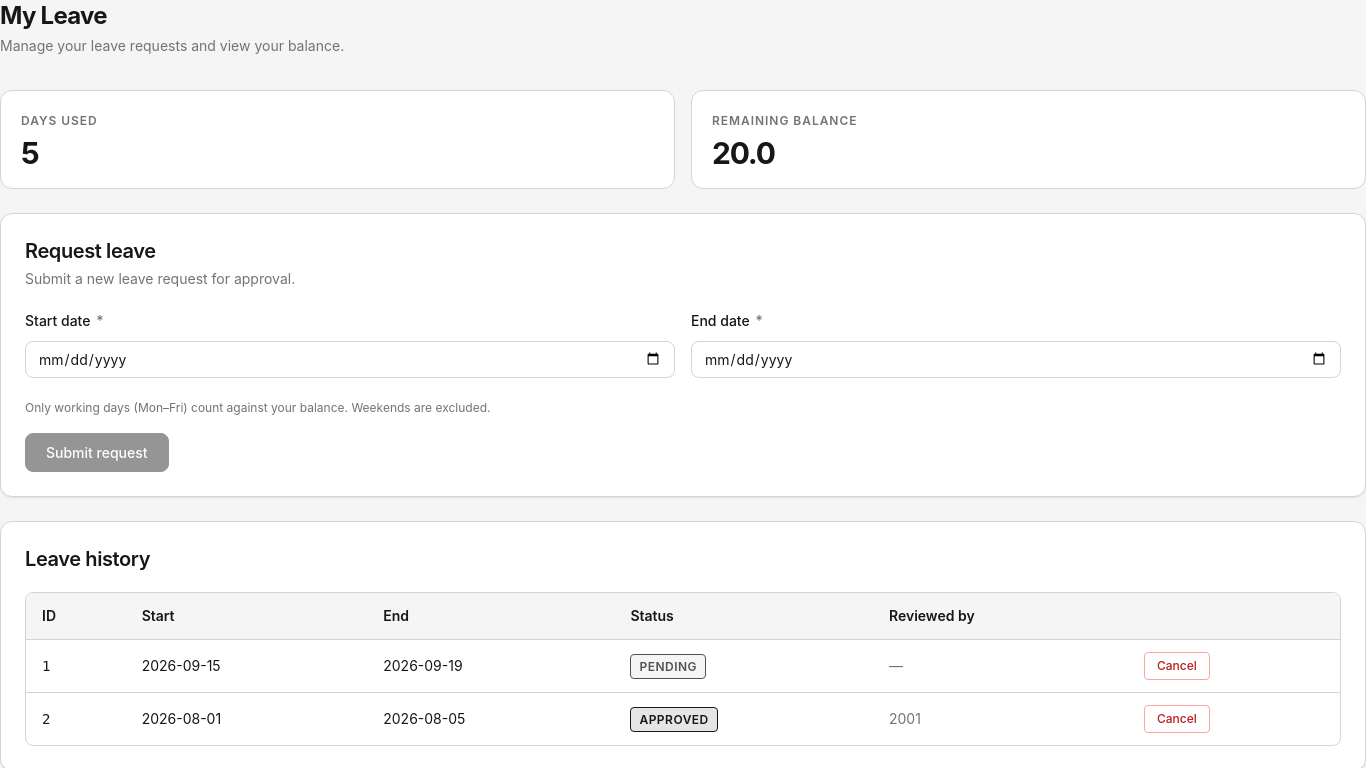
MyLeavePage — cancel action › closes the modal when "Keep request" is clicked
This screenshot has width=1366, height=768.
Click the button with aria-label "cancel leave" at point(1177, 666), box [1144, 652, 1210, 680]
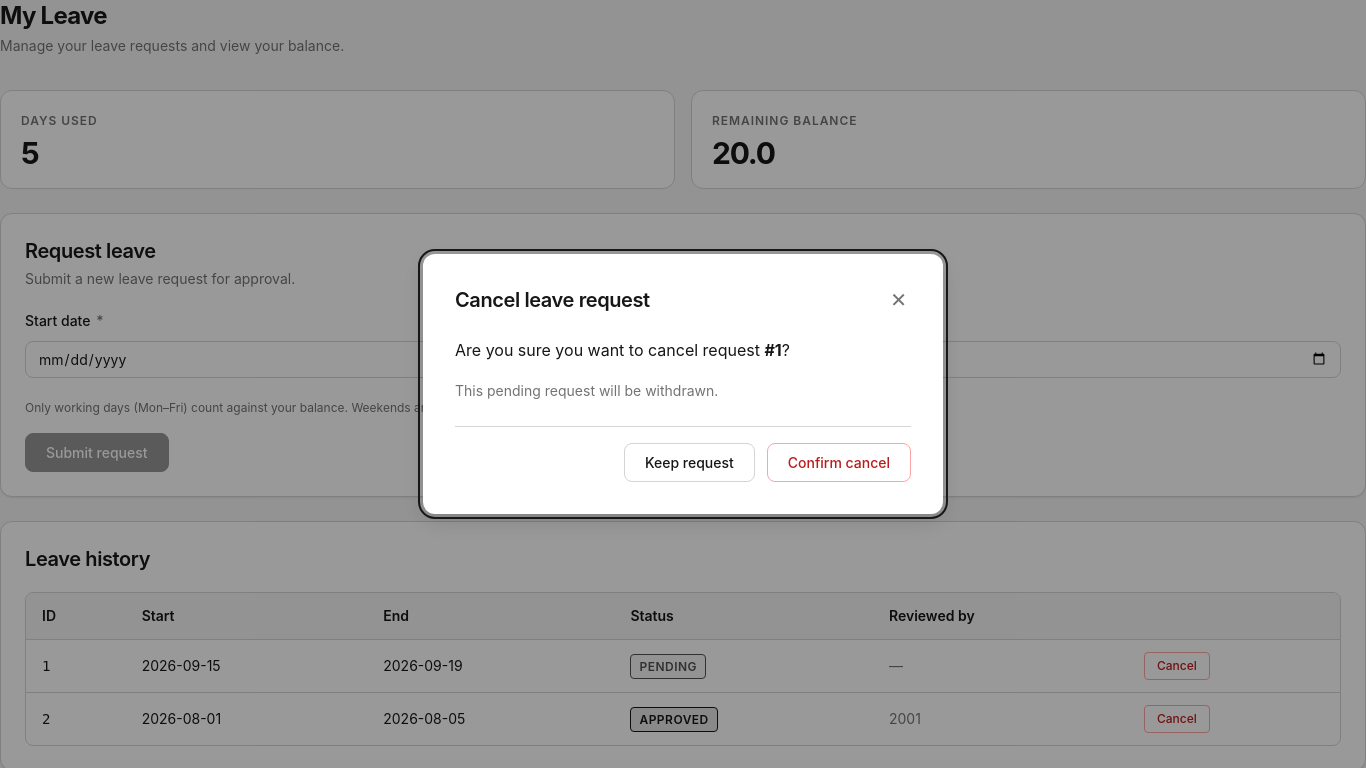
Click the button "Keep request" at point(689, 462), box [624, 443, 755, 482]
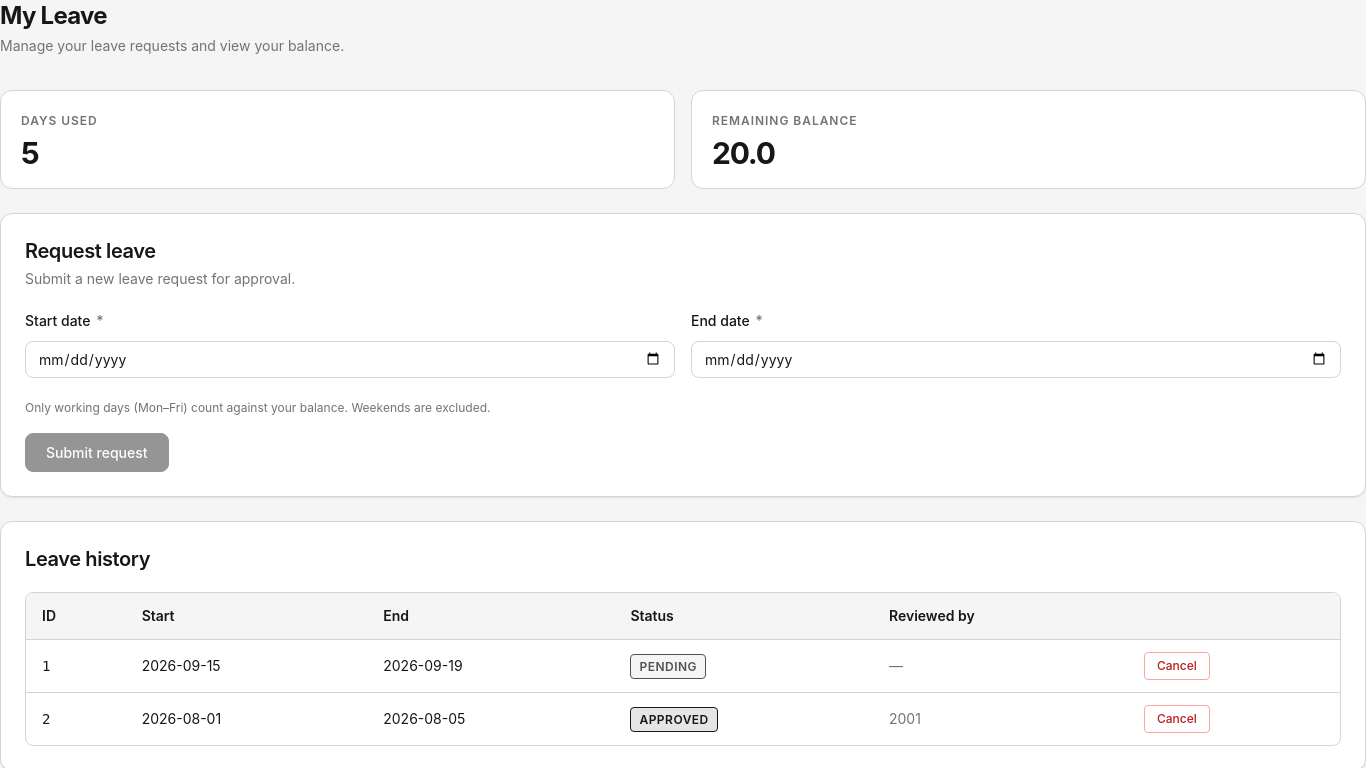
Now the dialog is gone
